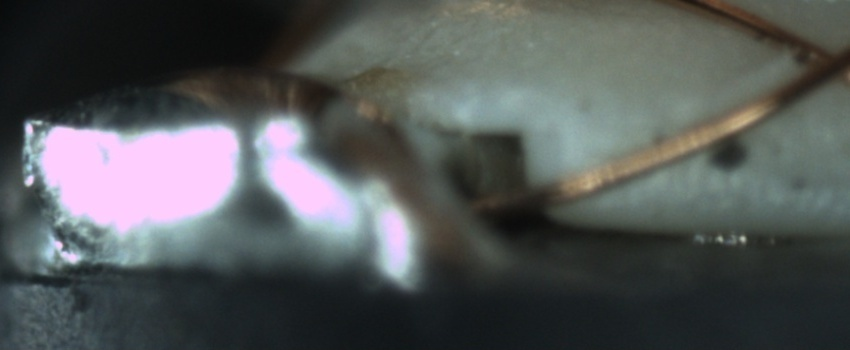CL: (768, 21, 850, 98)
